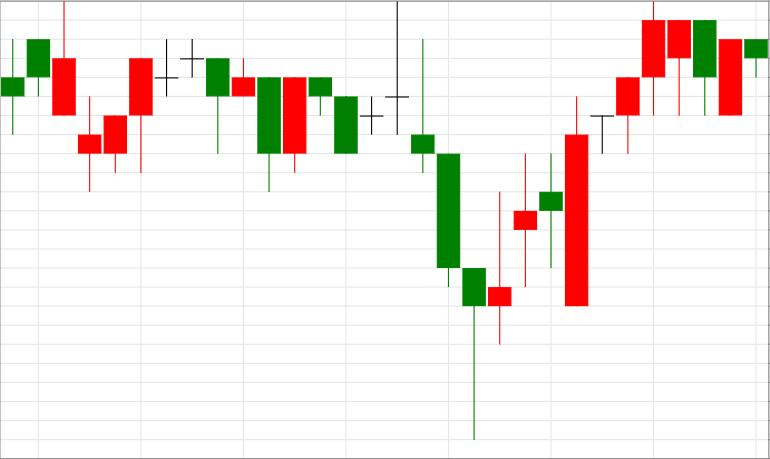hammer_rise: (385, 1, 486, 441)
hanging_man_fall: (564, 1, 691, 306)
